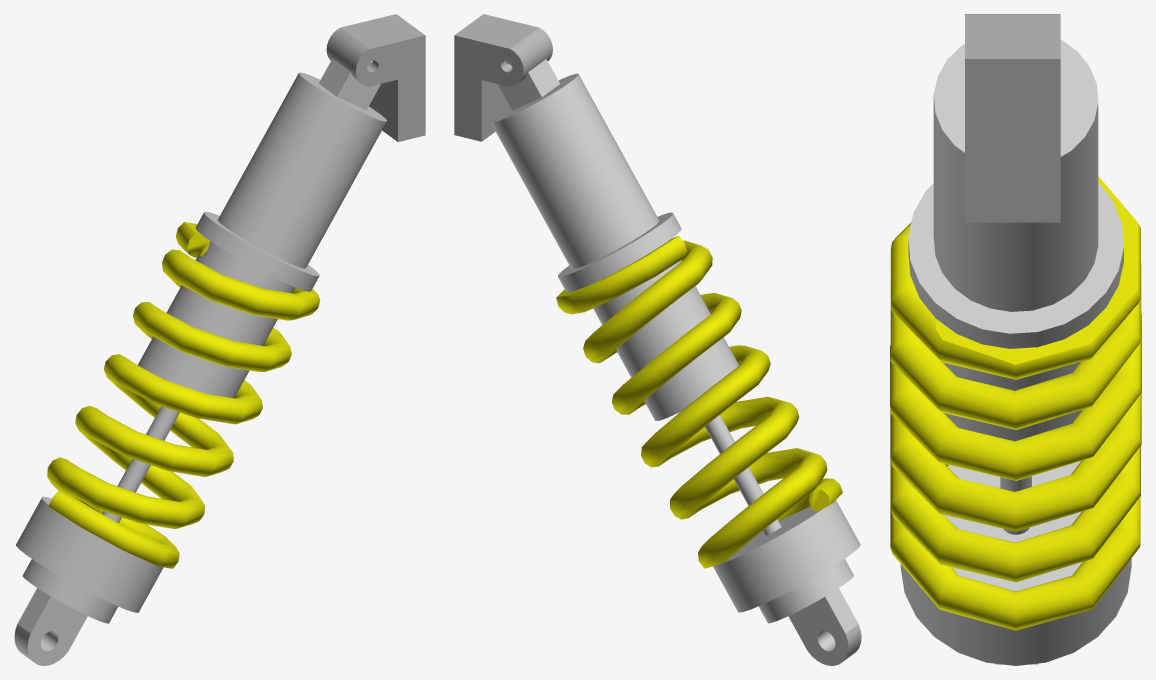
Rendered from 8- Suspencion.fbx.
3 renders of one model, left to right at view 1: azimuth 30°, elevation 25°; view 2: azimuth 150°, elevation 25°; view 3: azimuth 270°, elevation 25°, orthographic. The views are drawn at different scales.
Parts seen in each view (by area): view 1: KTM:Mesh25Spring1Group21Model1; view 2: KTM:Mesh25Spring1Group21Model1; view 3: KTM:Mesh25Spring1Group21Model1.
Part boxes in pixels (box(x1,y1,x2,y2)): KTM:Mesh25Spring1Group21Model1: box(14, 14, 425, 665); KTM:Mesh25Spring1Group21Model1: box(454, 14, 861, 665); KTM:Mesh25Spring1Group21Model1: box(890, 14, 1141, 665).
Bounding box in the file's own units: 1.32 × 1.78 × 0.4552.
